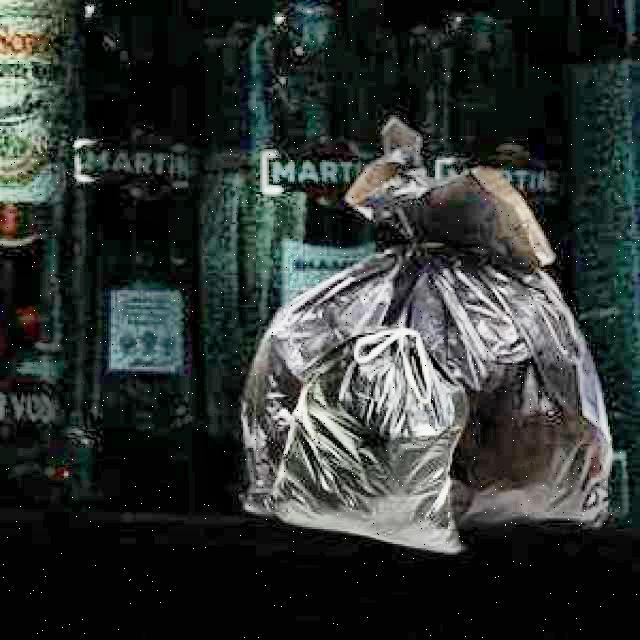Trashbag: (229, 110, 623, 560)
